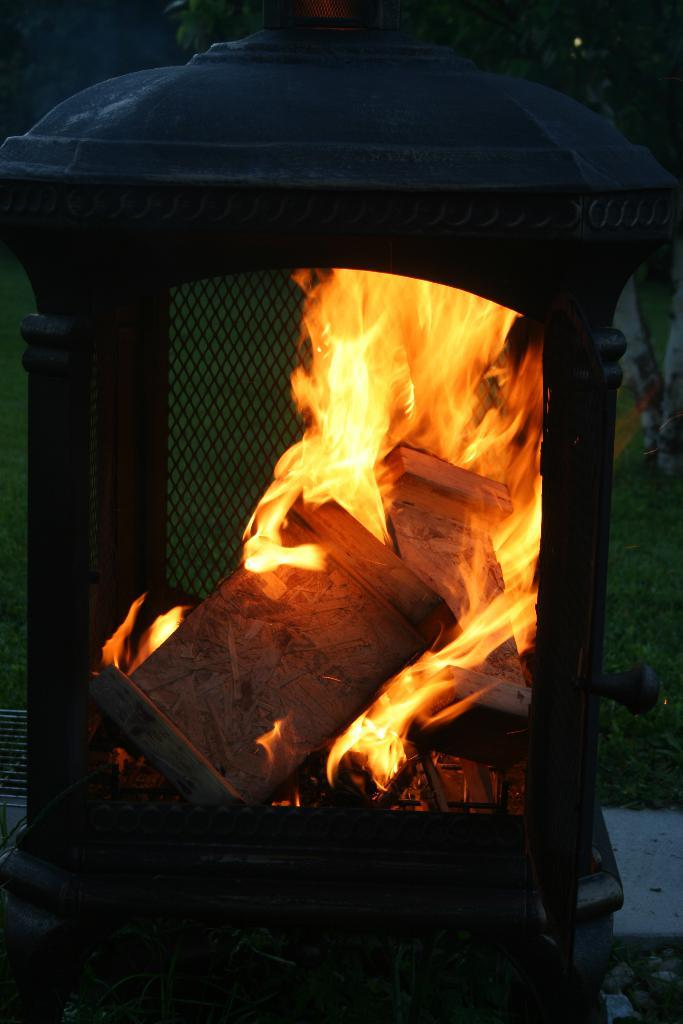Fire: (106, 240, 541, 814)
